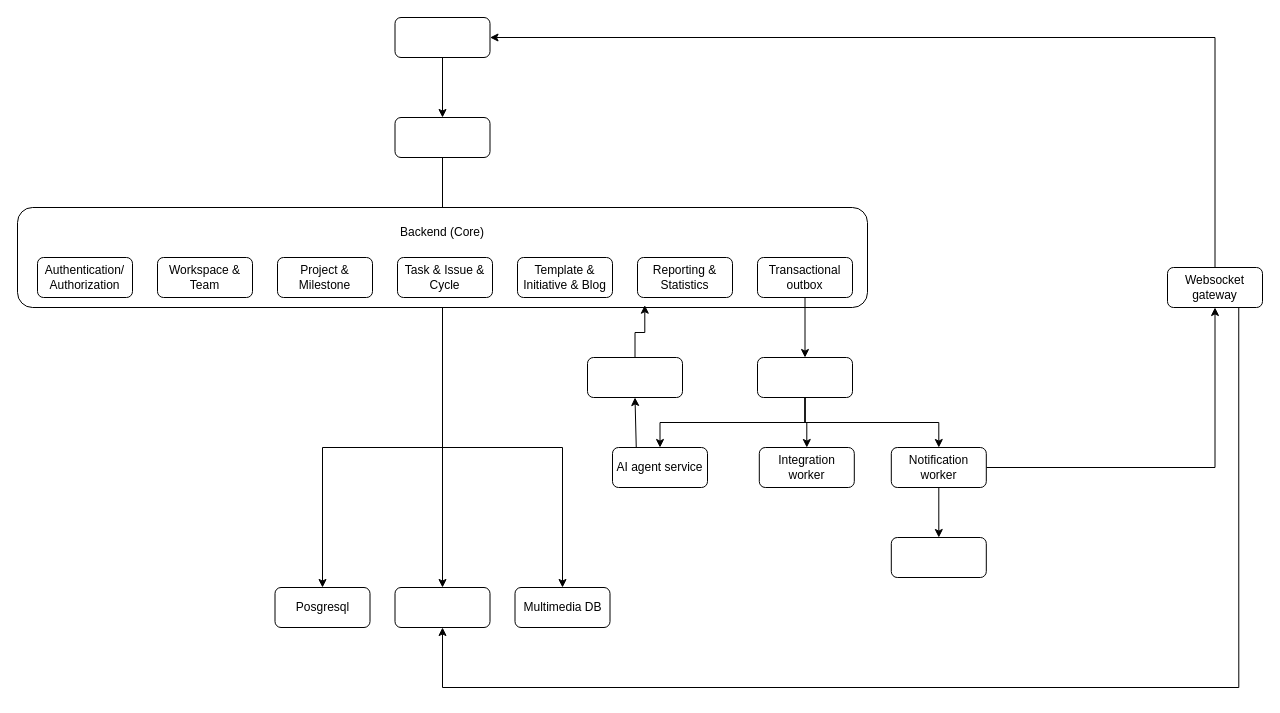
The diagram is 1280 pixels wide and 713 high, and some of its shapes have lost their labels. The shapes that lost their labels are listed below. From the top down, each one's centre as x and y in pixels, then its label:
At (x=442, y=37): "Browser/ Mobile".
At (x=442, y=137): "API gateway".
At (x=634, y=377): "LLM provider".
At (x=804, y=377): "Kafka".
At (x=938, y=557): "Email provider".
At (x=442, y=607): "Redis".
